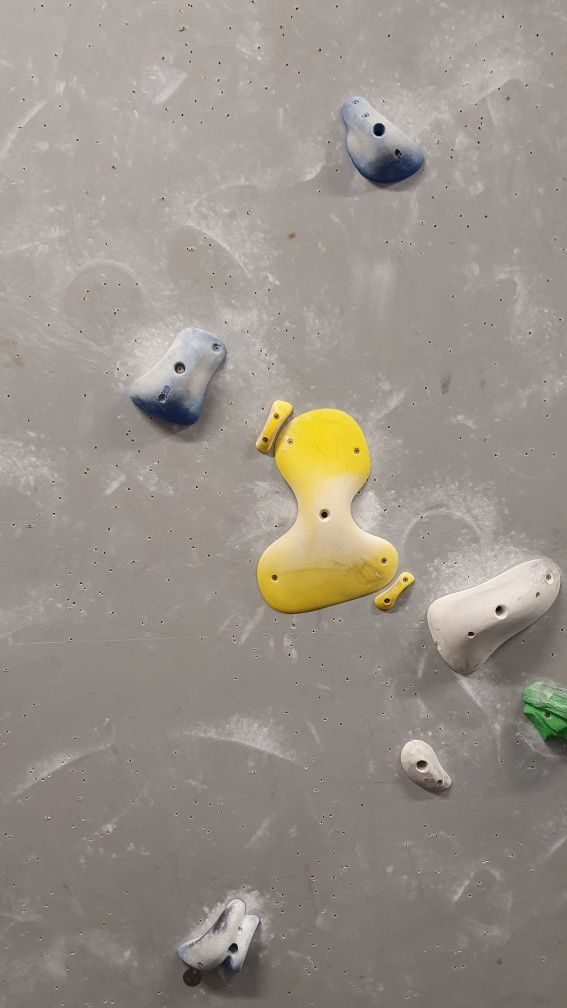Crimp: (254, 397, 294, 456), (375, 573, 420, 613)
Jug: (177, 899, 263, 983)
Pinch: (127, 319, 233, 434)
